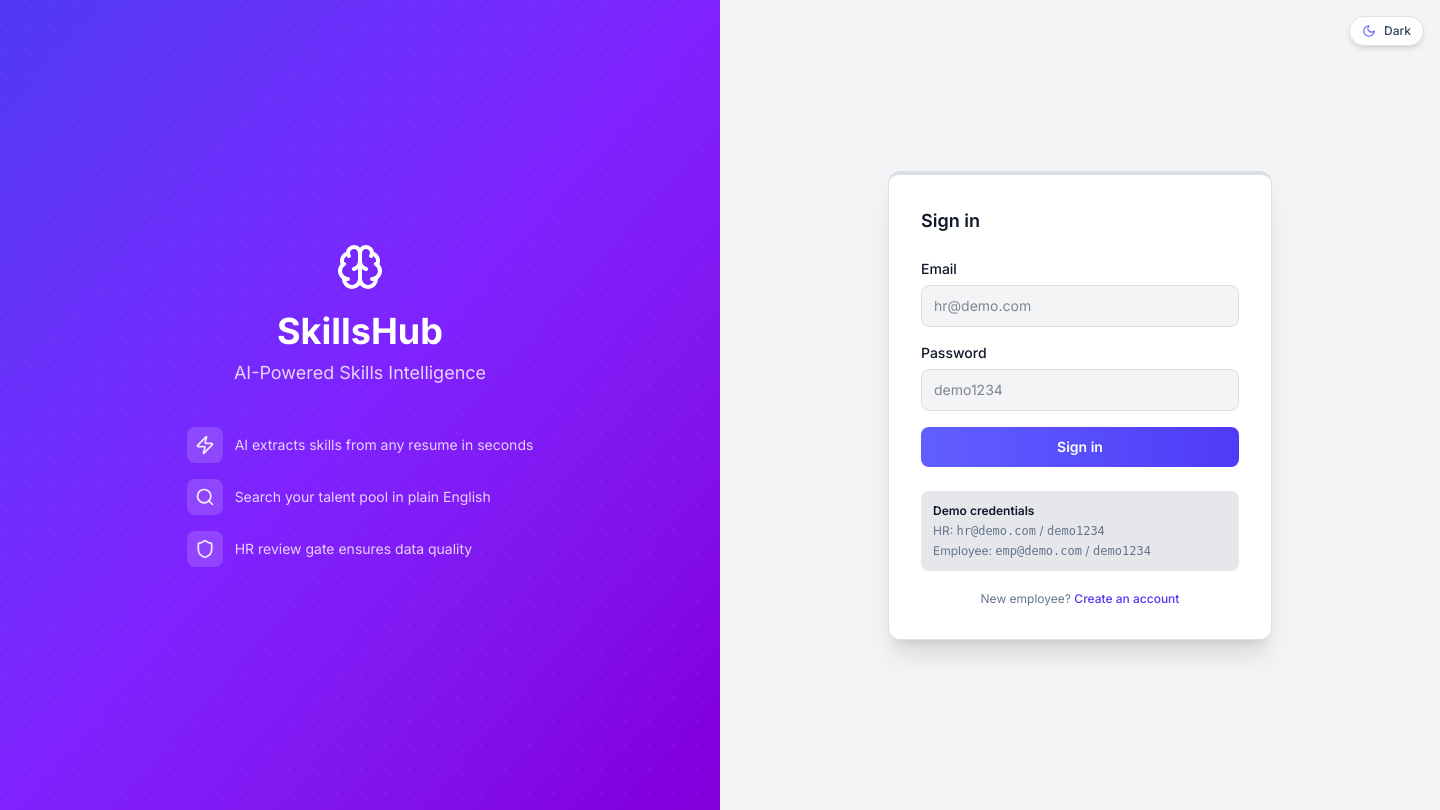
it: LoginPage › displays API error message for invalid credentials
Type "bad@demo.com" into the field with placeholder "hr@demo.com".
click(1080, 306); type("bad@demo.com")  # box [921, 284, 1239, 326]
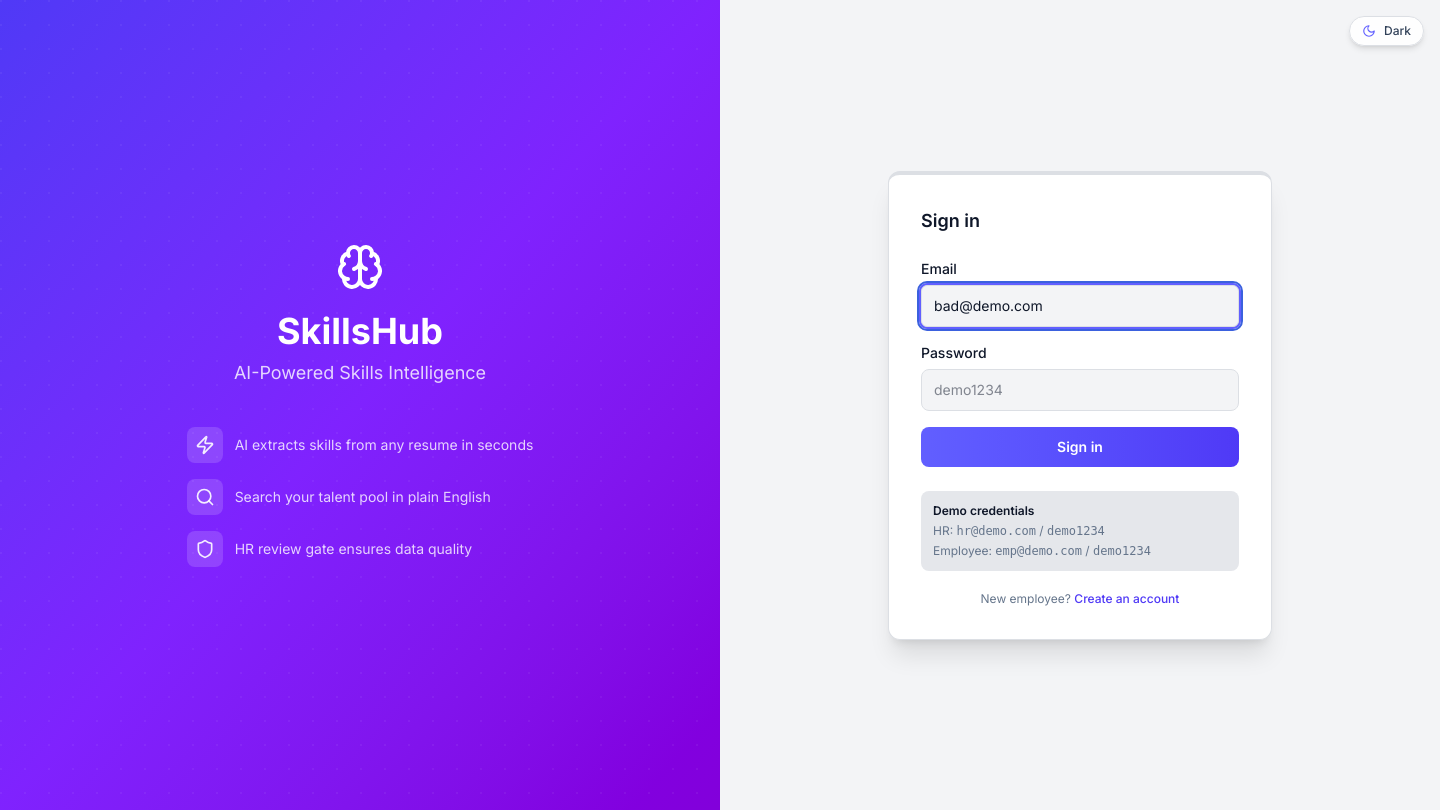
Type "wrongpass" into the password field with placeholder "demo1234".
click(1080, 390); type("wrongpass")  # box [921, 368, 1239, 410]
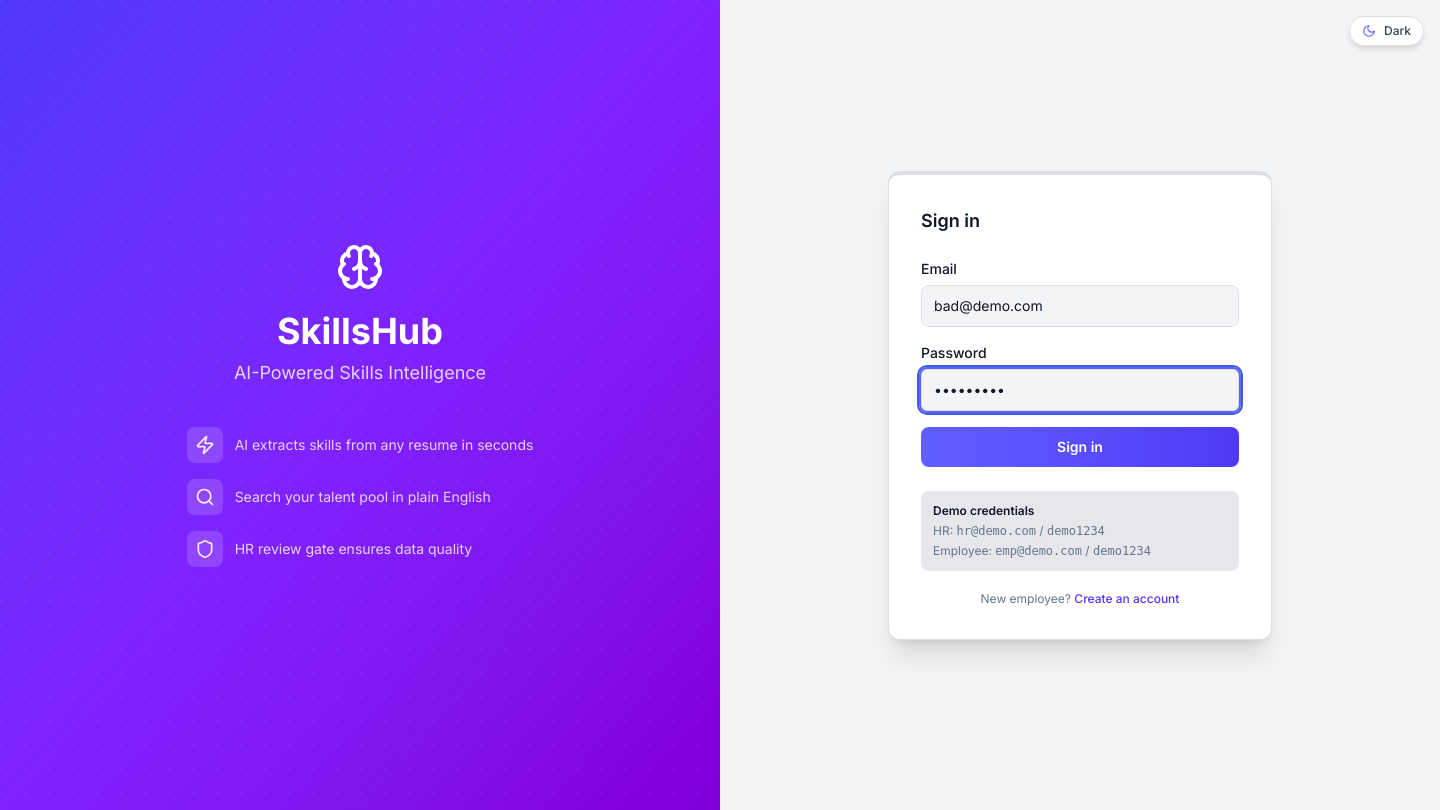
Submit the form "Email Password Sign in", box [921, 258, 1239, 466]
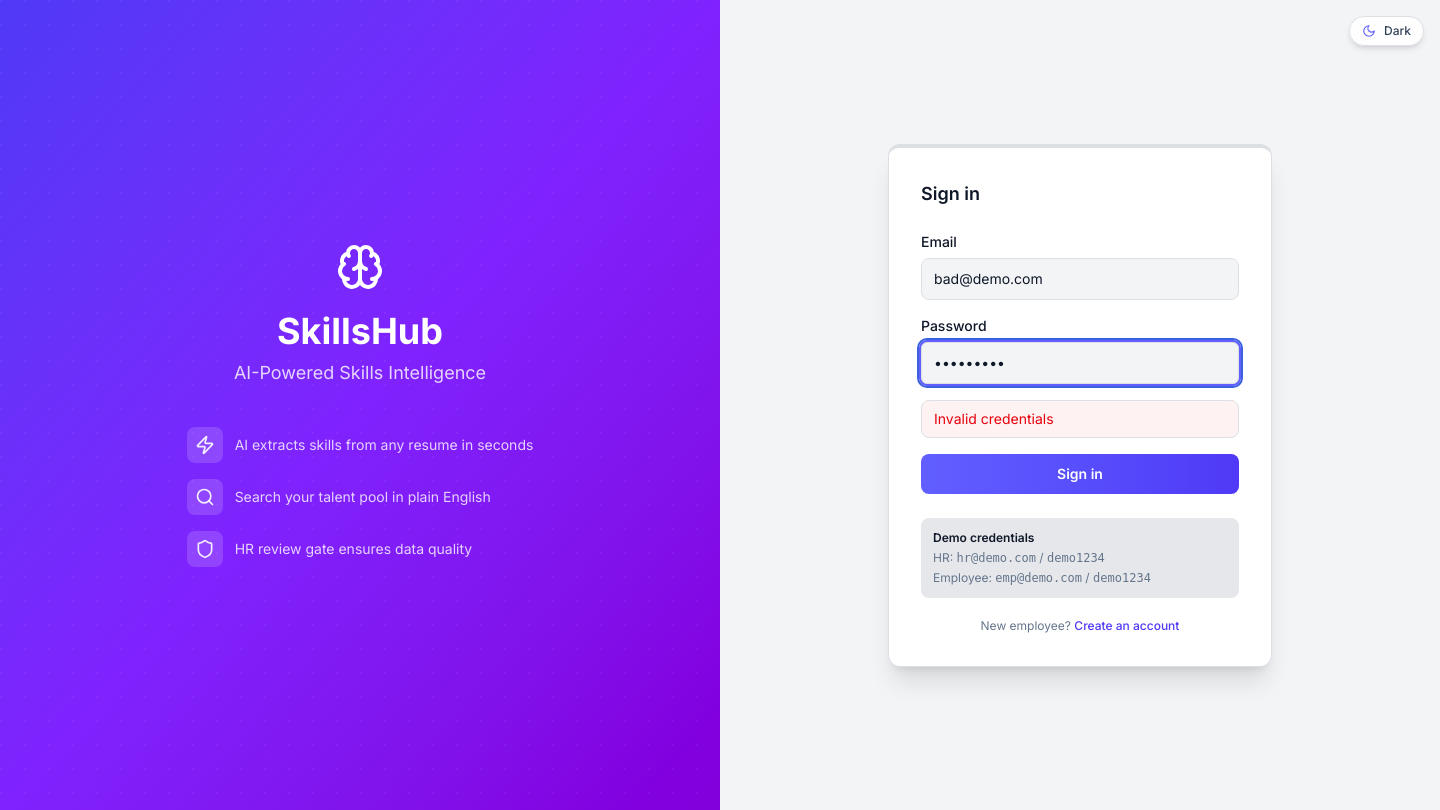
Now the text "Invalid credentials" is shown, box [921, 400, 1239, 438]
